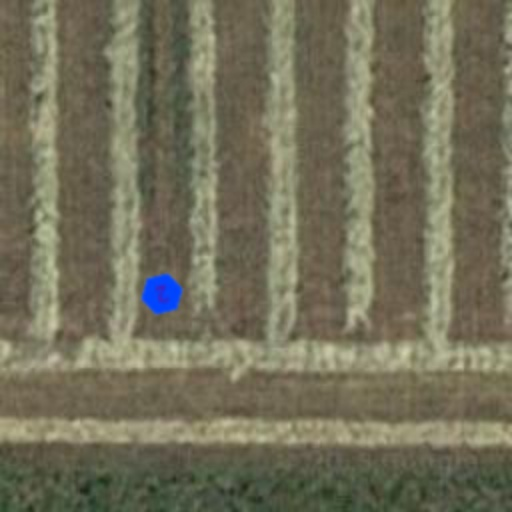hexagon: (134, 266, 190, 322)
